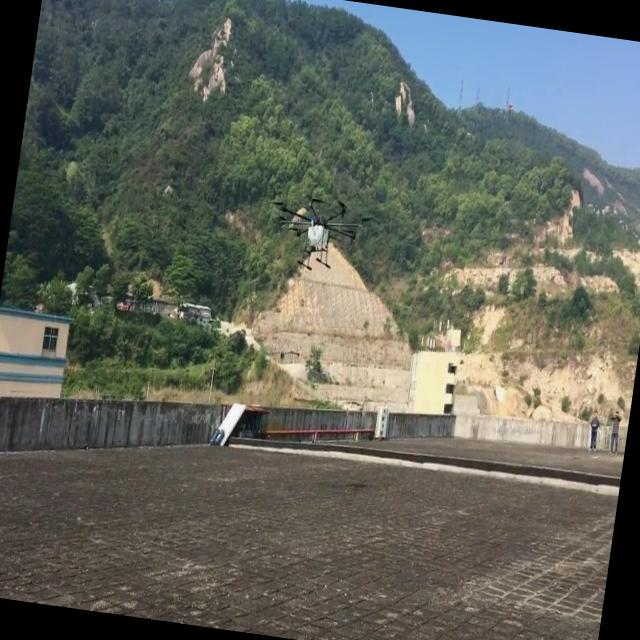drone: (266, 187, 376, 279)
